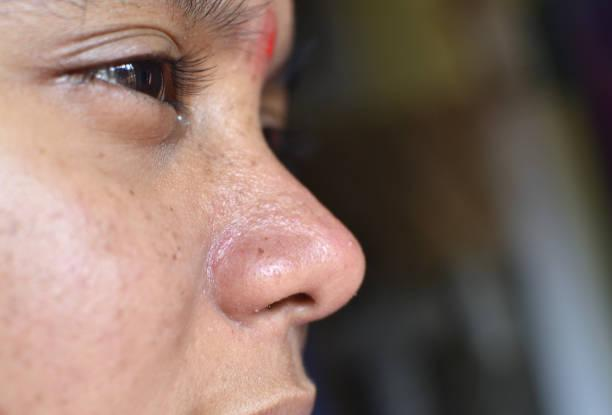Dry-Skin: (190, 129, 386, 222), (206, 187, 352, 303), (157, 0, 270, 124), (33, 80, 160, 190), (31, 198, 183, 249), (126, 321, 220, 403), (70, 279, 131, 337), (248, 60, 301, 74), (230, 368, 246, 397)
